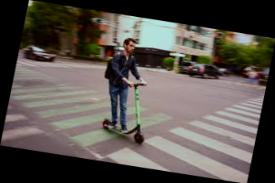nonhelmet: (89, 33, 168, 145)
